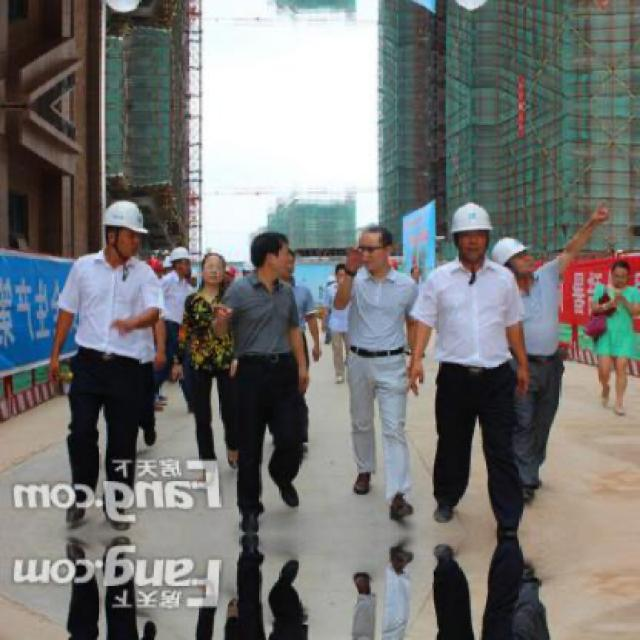con casco: (406, 203, 547, 293), (75, 172, 172, 290)
